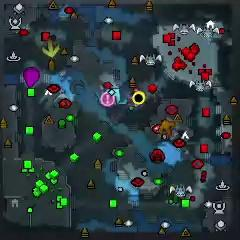p3: (22, 66, 40, 87)
p4Clone: (132, 91, 146, 104)
x2: (42, 39, 61, 58)
x3: (104, 87, 121, 103)
x5: (159, 120, 175, 135)
